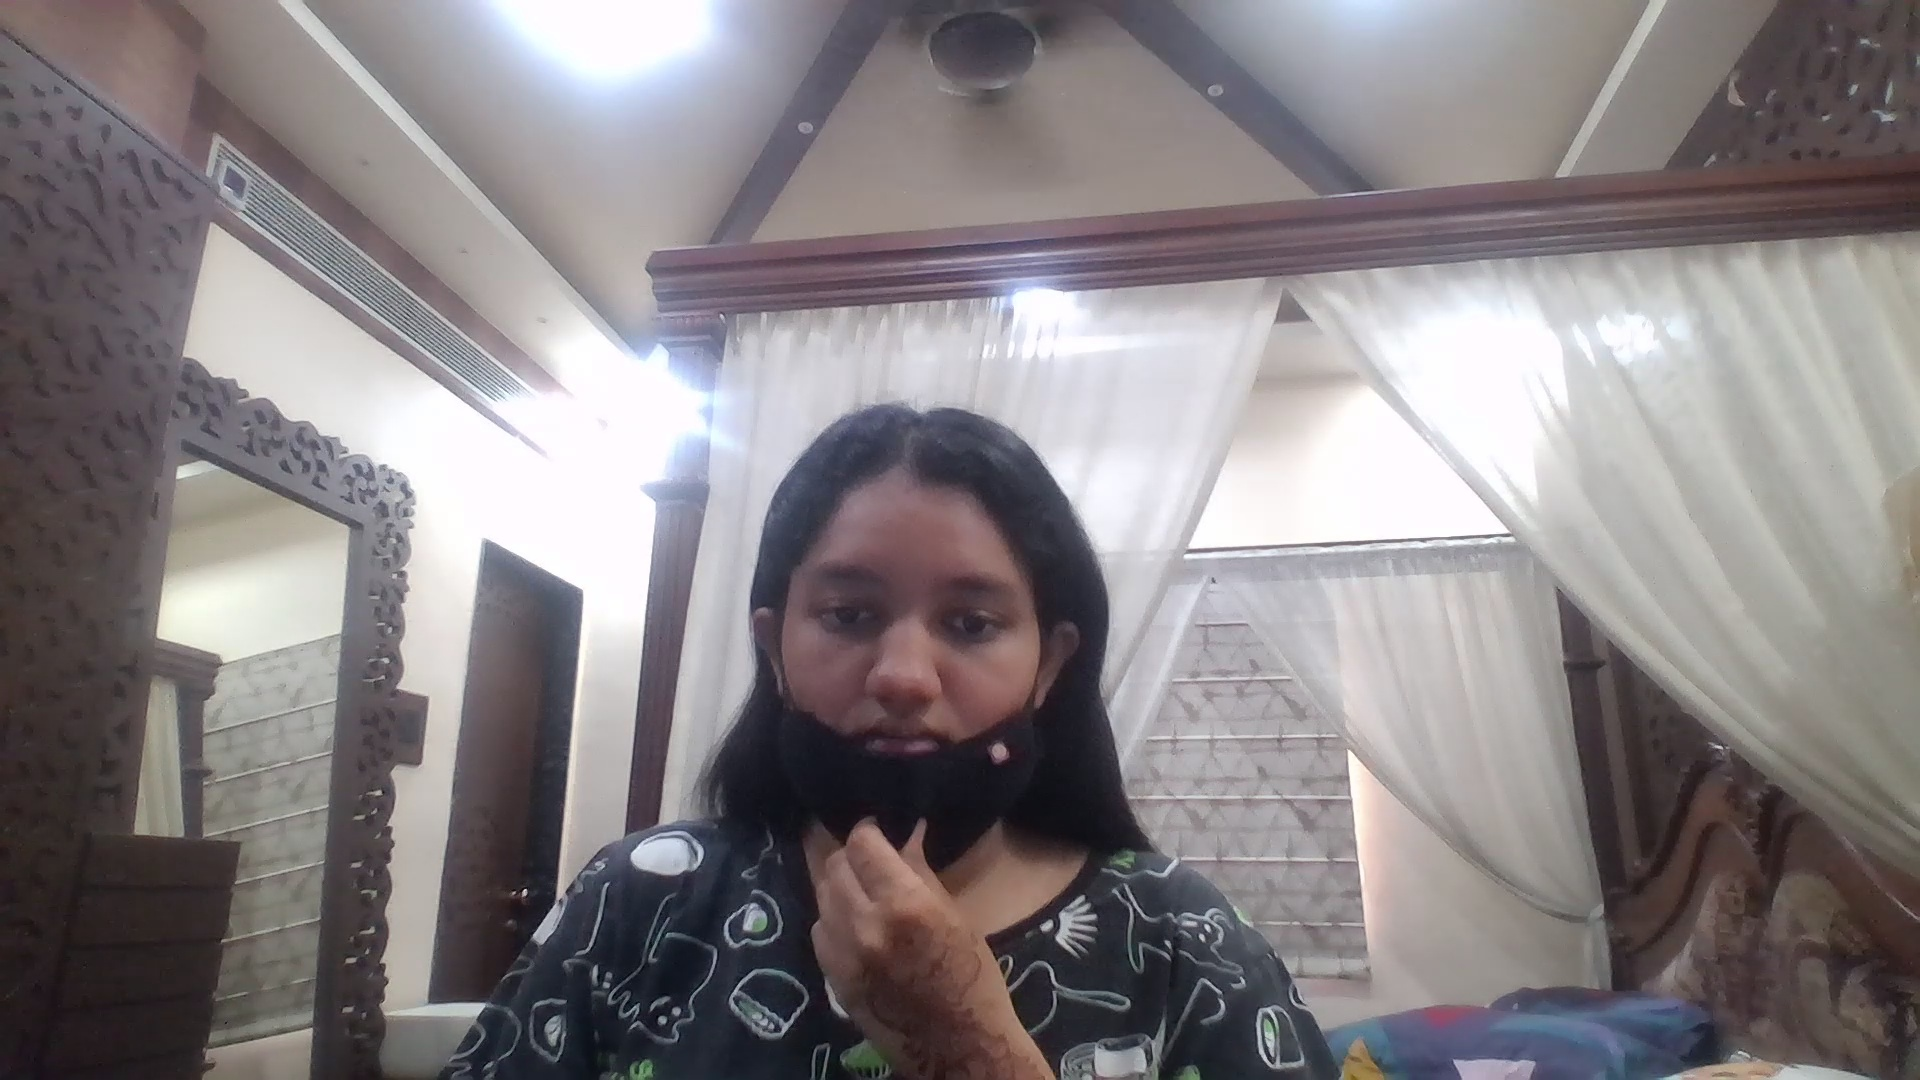No Mask: (751, 652, 1060, 866)
